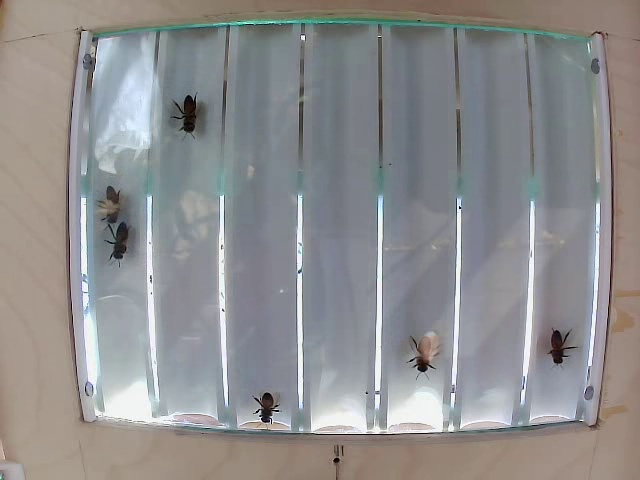bee: (90, 178, 129, 236), (250, 380, 284, 444), (169, 92, 207, 149), (403, 331, 442, 385), (538, 329, 576, 377), (98, 226, 139, 260)
